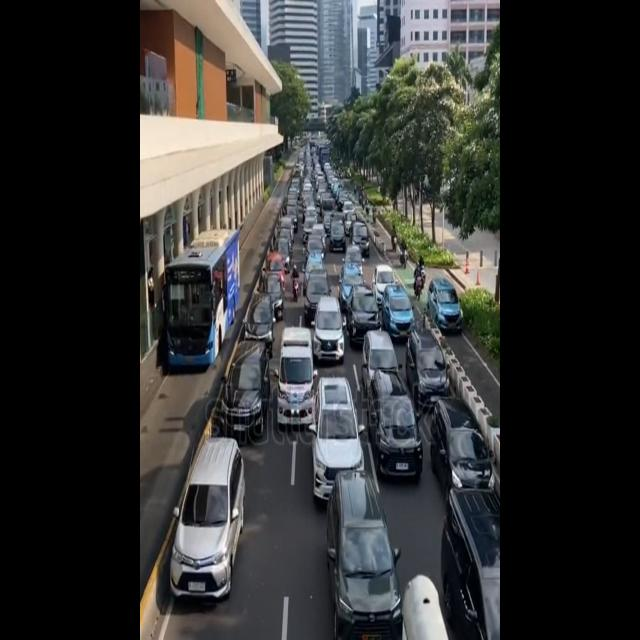Ambulance: (274, 317, 320, 440)
